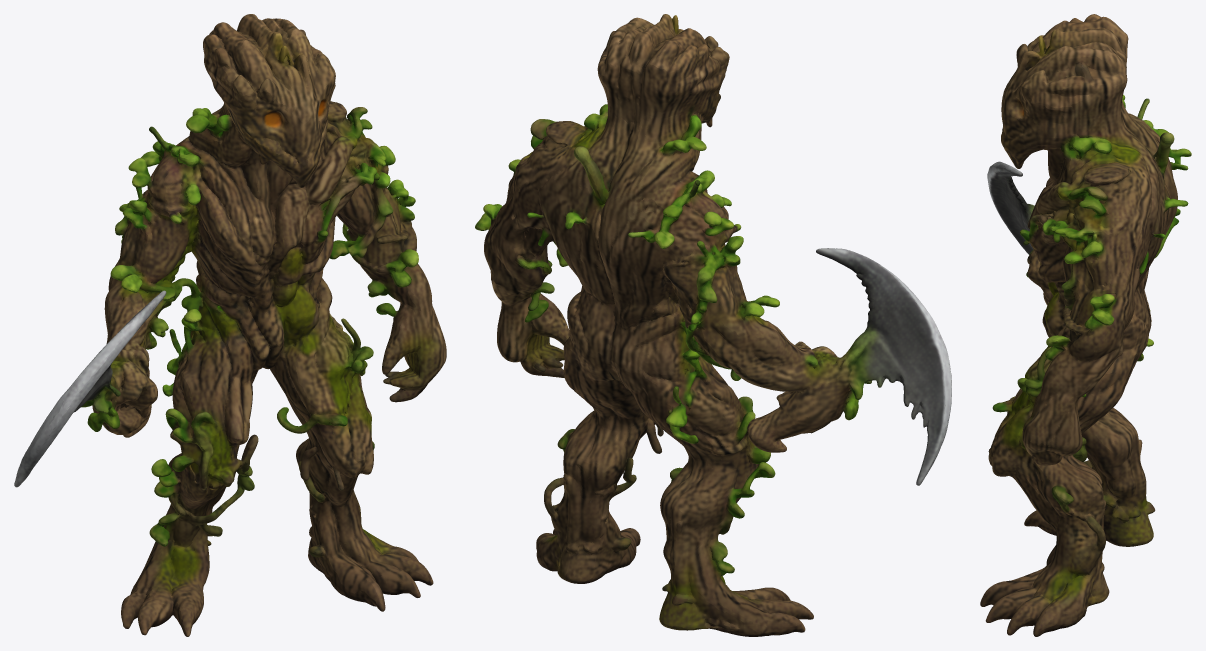
File: char2_moss_monster.glb
3 renders of one model, left to right at view 1: azimuth 30°, elevation 25°; view 2: azimuth 150°, elevation 25°; view 3: azimuth 270°, elevation 25°, orthographic. The views are drawn at different scales.
Visible parts, largest first — view 1: world; view 2: world; view 3: world.
Part boxes in pixels (x1,y1,x2,y2): world: (14,14,446,636); world: (475,14,951,636); world: (980,14,1191,636).
Size of the model in its own units: 1.72 by 2.2 by 0.7733.
Materials: 1 (1 with a texture image).
